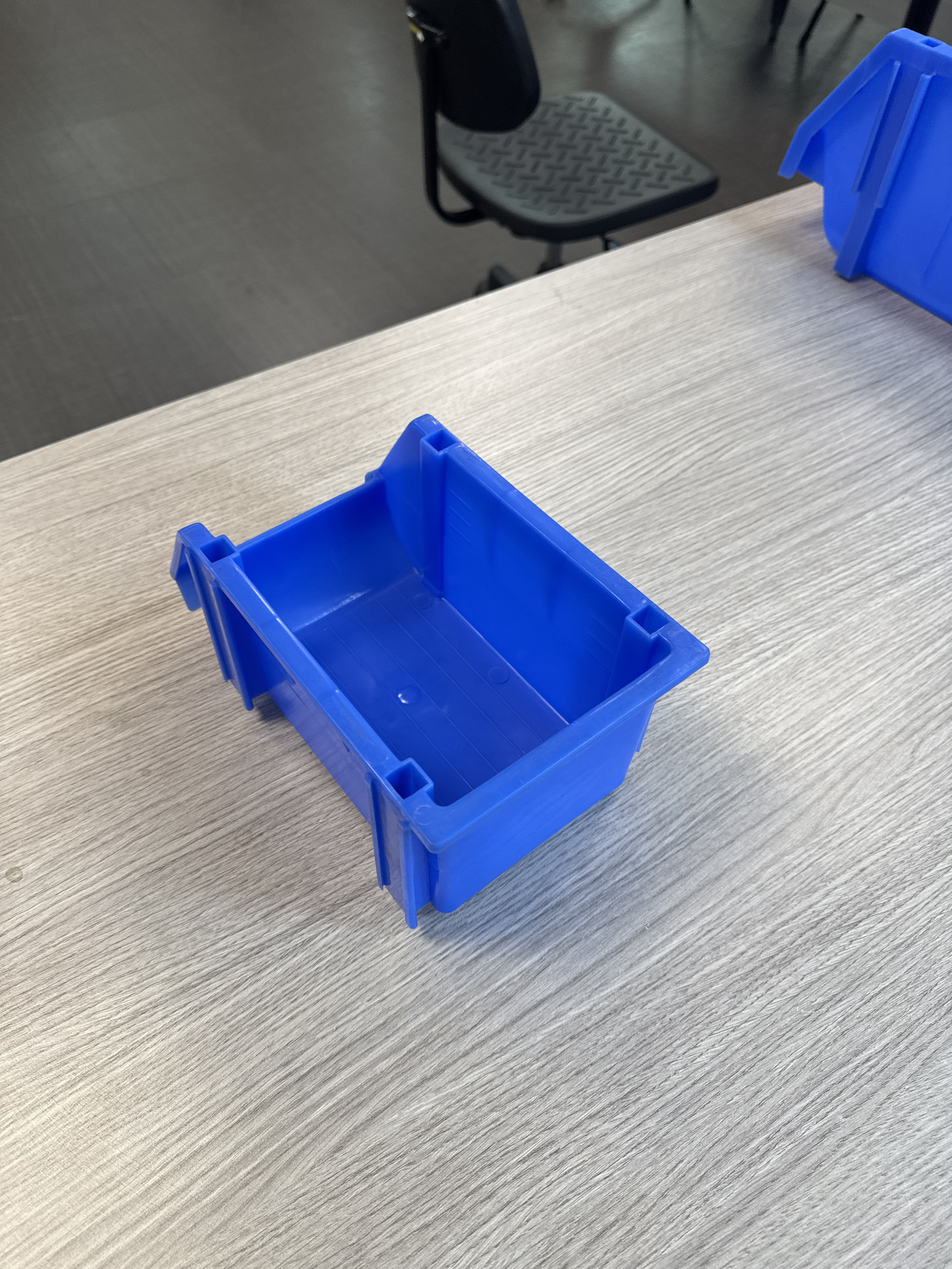Bin Boundary: (225, 375, 671, 829)
